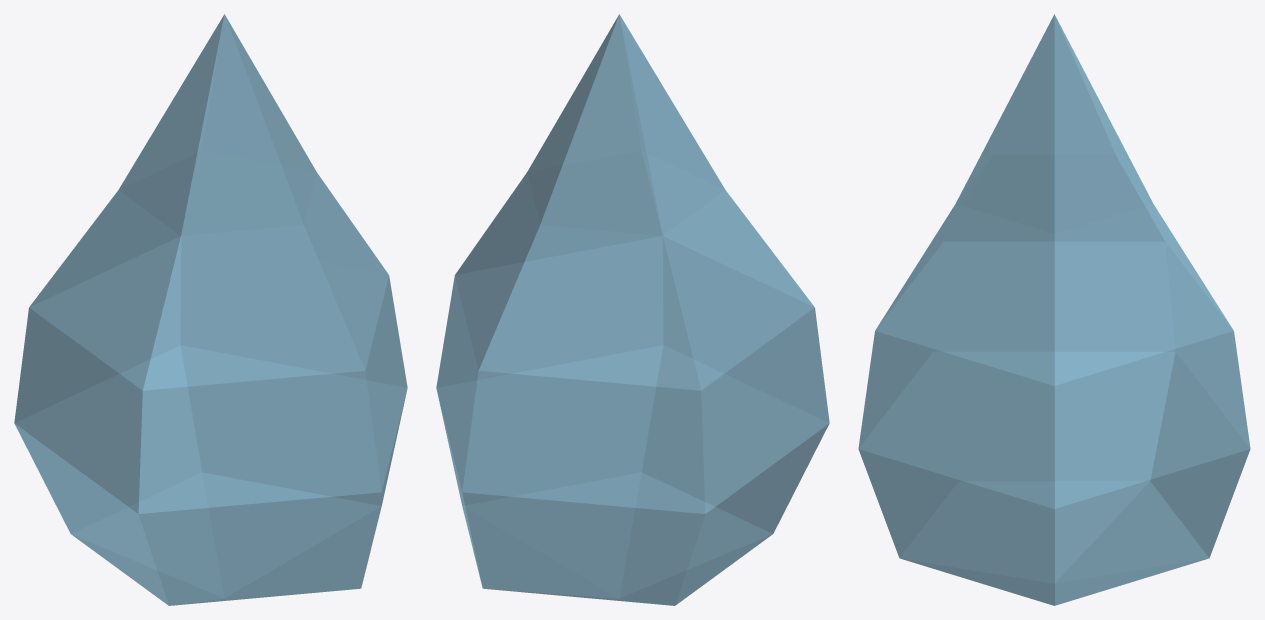
The model's file is ElementWater.fbx.
3 renders of one model, left to right at view 1: azimuth 30°, elevation 25°; view 2: azimuth 150°, elevation 25°; view 3: azimuth 270°, elevation 25°, orthographic. The views are drawn at different scales.
Visible parts, largest first — view 1: pPyramid1; view 2: pPyramid1; view 3: pPyramid1.
Boxes of the visible parts, x1,y1,x2,y2 form: pPyramid1: [14, 14, 407, 605]; pPyramid1: [436, 14, 829, 605]; pPyramid1: [858, 14, 1250, 605].
Bounding box in the file's own units: 3.34 × 5.63 × 3.51.
